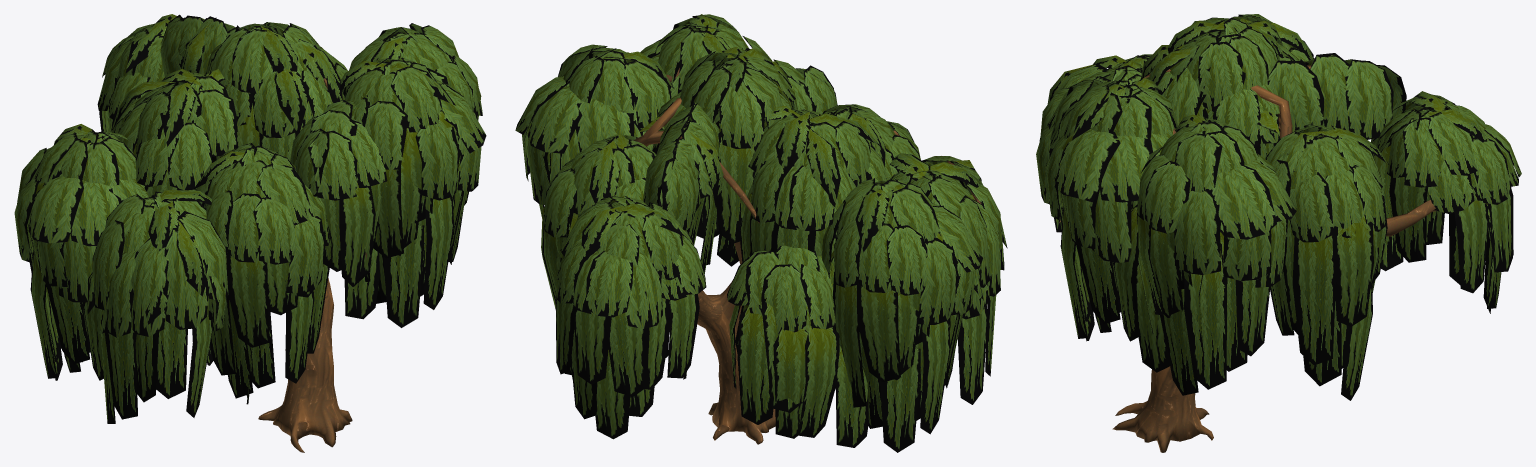
File: TreeFortnite.fbx
3 views of the same model, side by side, from view 1: azimuth 30°, elevation 25°; view 2: azimuth 150°, elevation 25°; view 3: azimuth 270°, elevation 25° (orthographic). The views are drawn at different scales.
Parts seen in each view (by area): view 1: athena_tropical_treeobjcleanermaterialmergergles; view 2: athena_tropical_treeobjcleanermaterialmergergles; view 3: athena_tropical_treeobjcleanermaterialmergergles.
Boxes of the visible parts, <box> form: athena_tropical_treeobjcleanermaterialmergergles: <box>14,14,486,452</box>; athena_tropical_treeobjcleanermaterialmergergles: <box>515,14,1007,452</box>; athena_tropical_treeobjcleanermaterialmergergles: <box>1036,14,1521,452</box>.
Bounding box in the file's own units: 18.63 × 15.77 × 17.18.
1 material, 1 textured.
